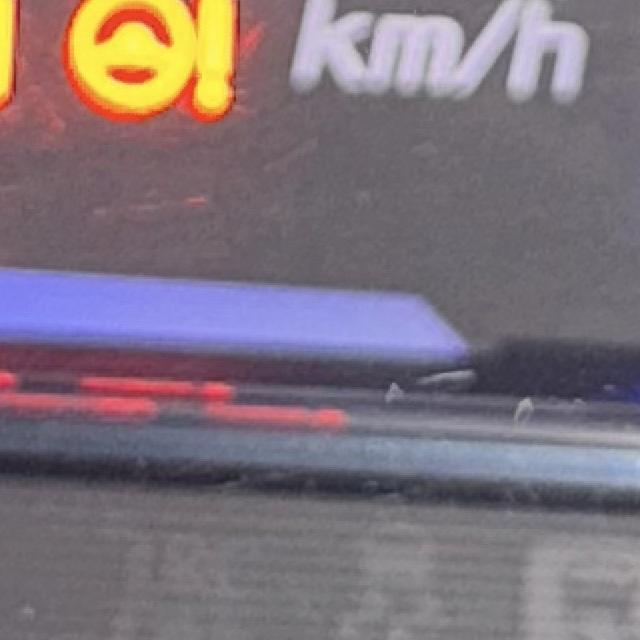Steering Wheel Locked: (59, 1, 241, 130)
